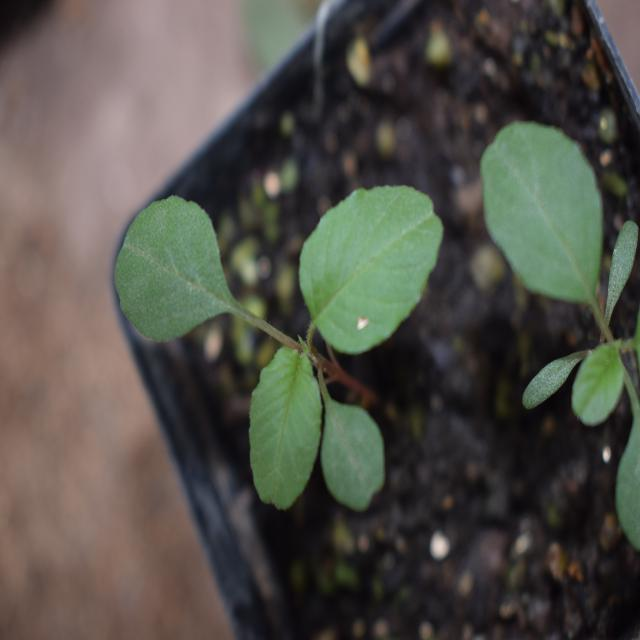pigweed: (120, 154, 439, 506)
